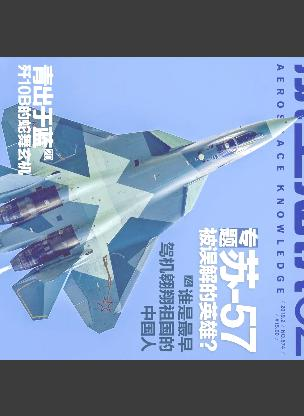SR71: (0, 102, 303, 333)
